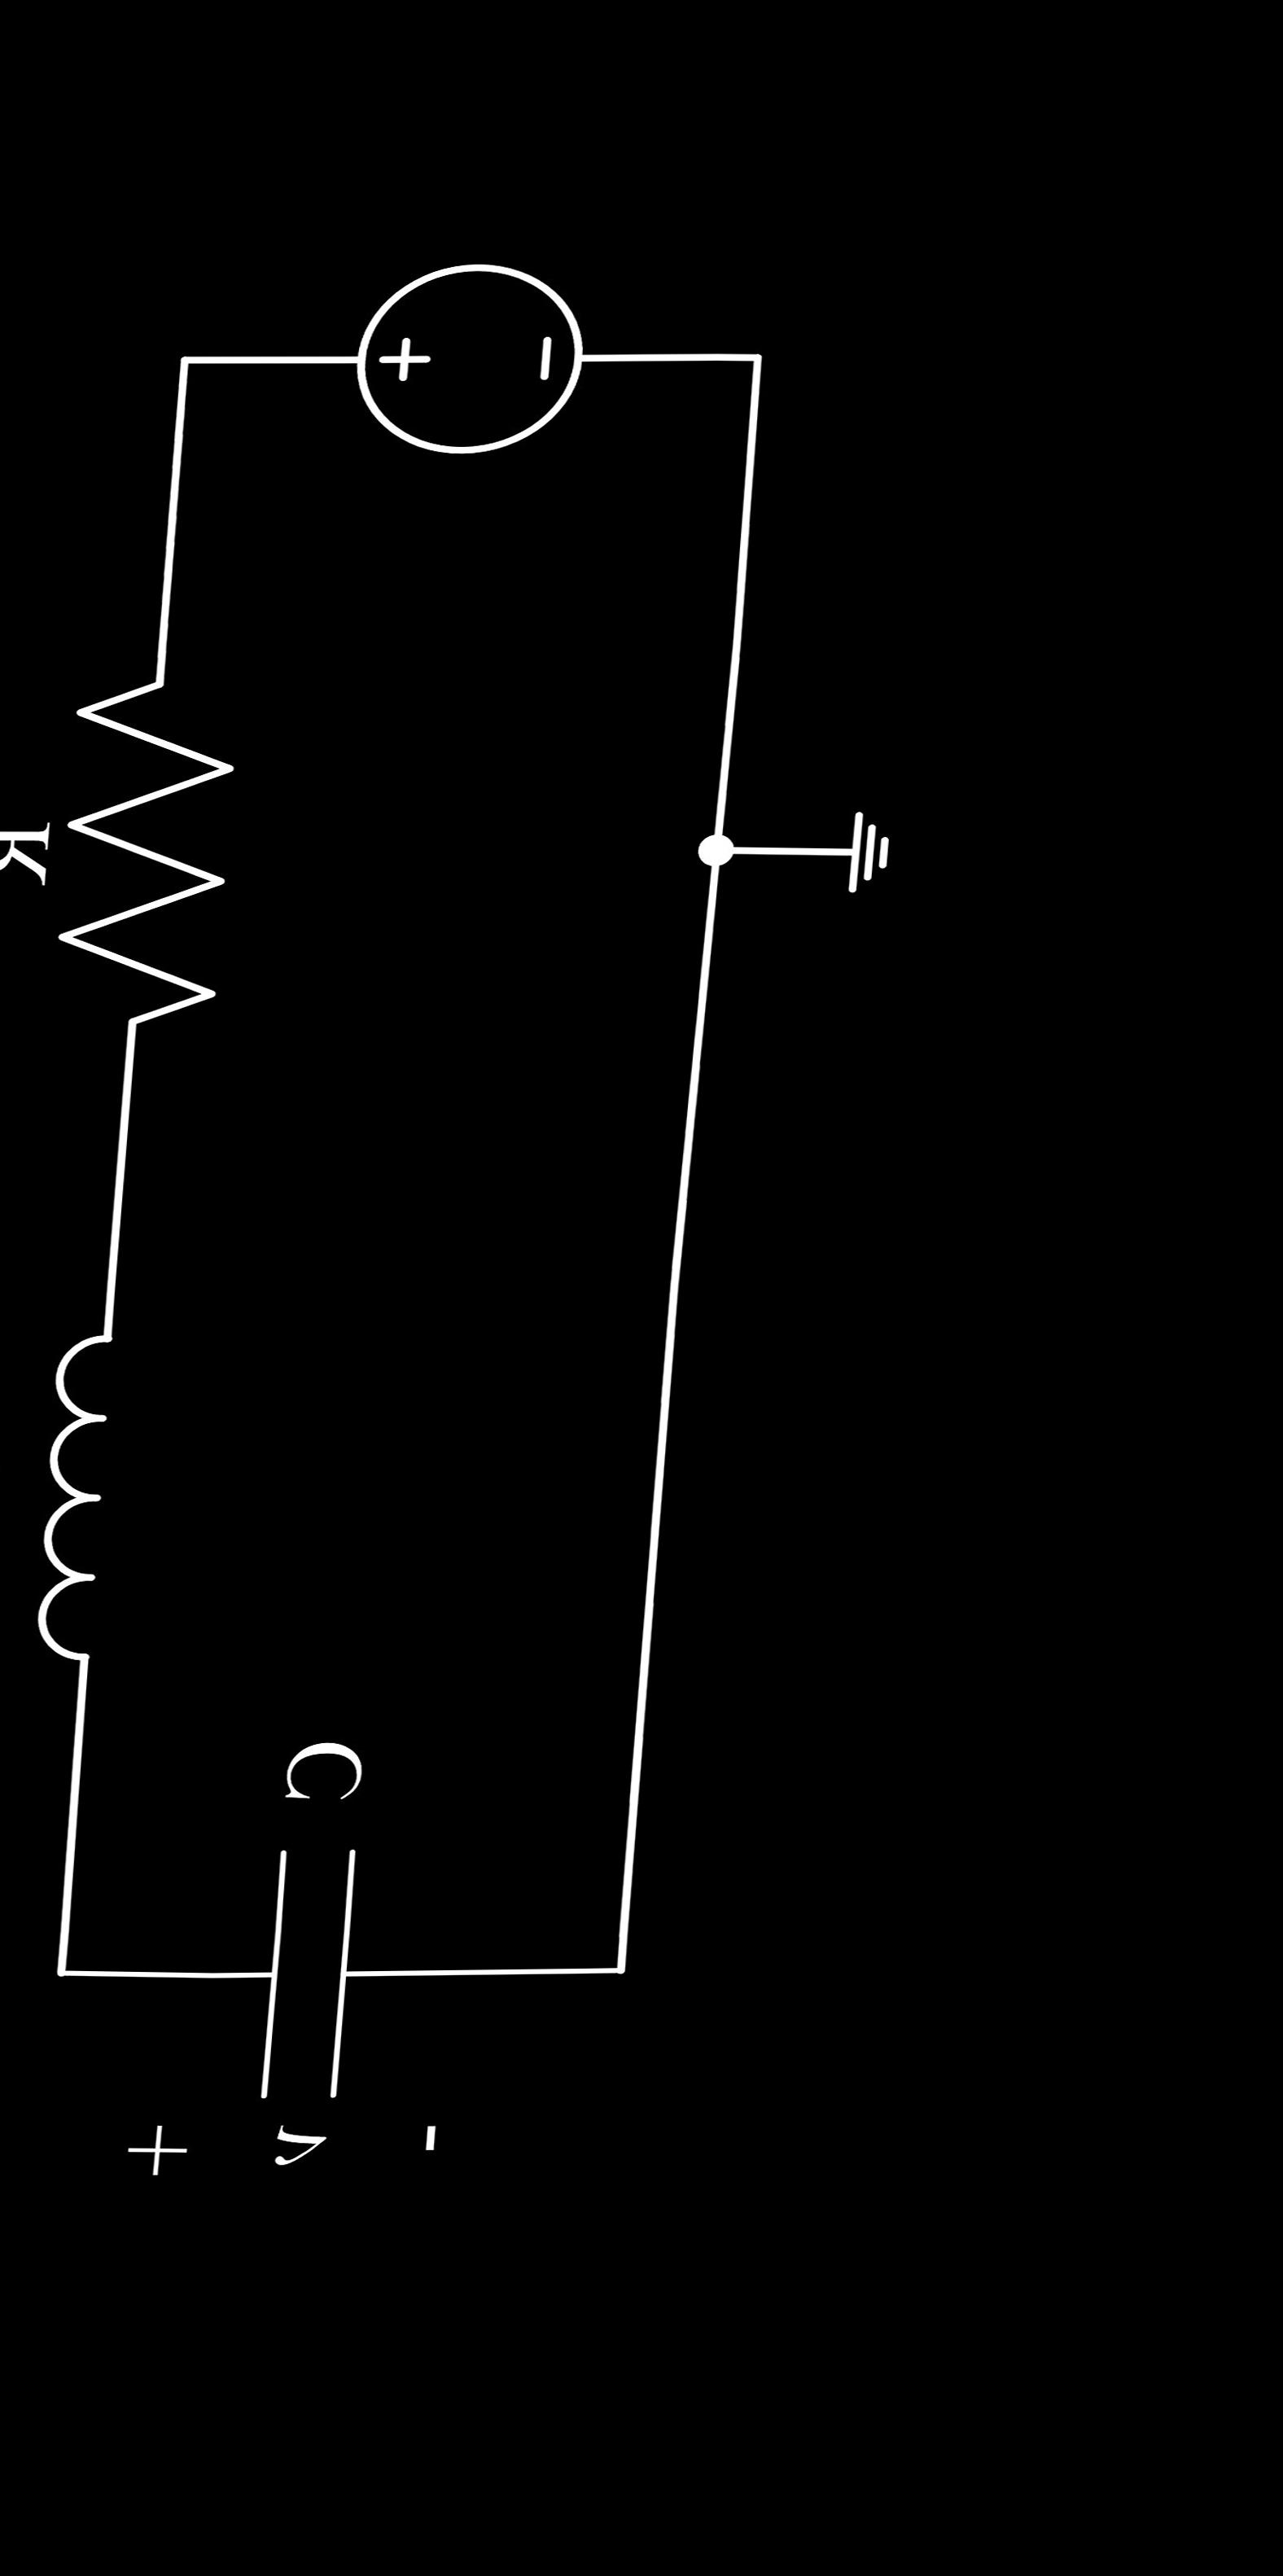Battery: (284, 204, 675, 511)
